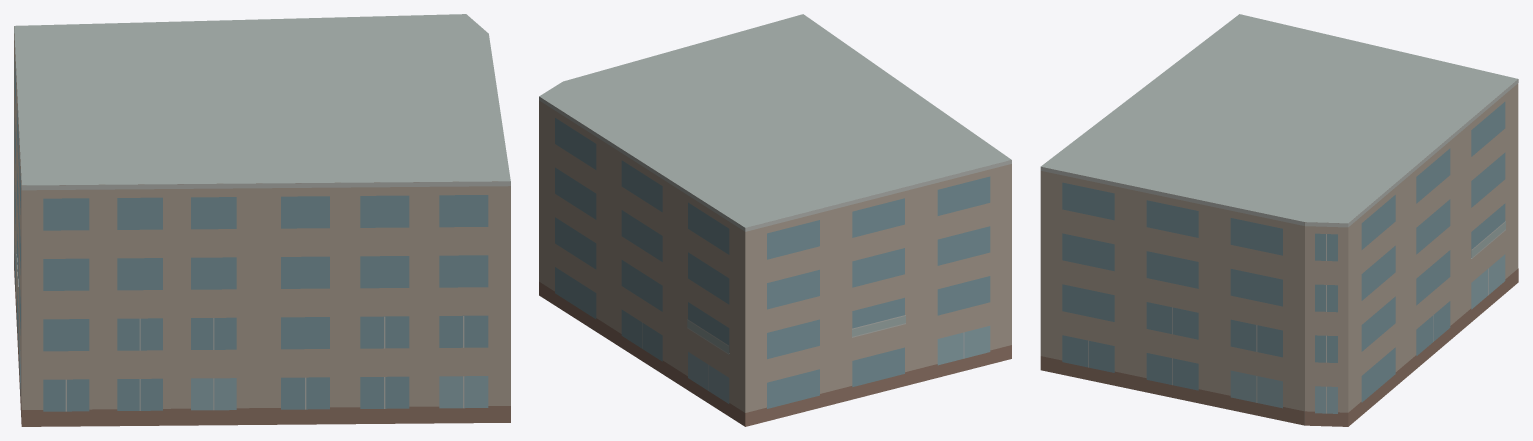
Rendered from survey-upis-32545924.glb.
The picture shows the model from 3 angles, left to right: view 1: azimuth 30°, elevation 25°; view 2: azimuth 150°, elevation 25°; view 3: azimuth 270°, elevation 25°; orthographic projection. The views are drawn at different scales.
Visible parts, largest first — view 1: survey-upis-32545924.tmp; view 2: survey-upis-32545924.tmp; view 3: survey-upis-32545924.tmp.
Boxes of the visible parts, x1,y1,x2,y2 form: survey-upis-32545924.tmp: (14,14,510,426); survey-upis-32545924.tmp: (539,14,1011,426); survey-upis-32545924.tmp: (1040,14,1518,426).
Bounding box in the file's own units: 26.93 × 12.2 × 25.97.
